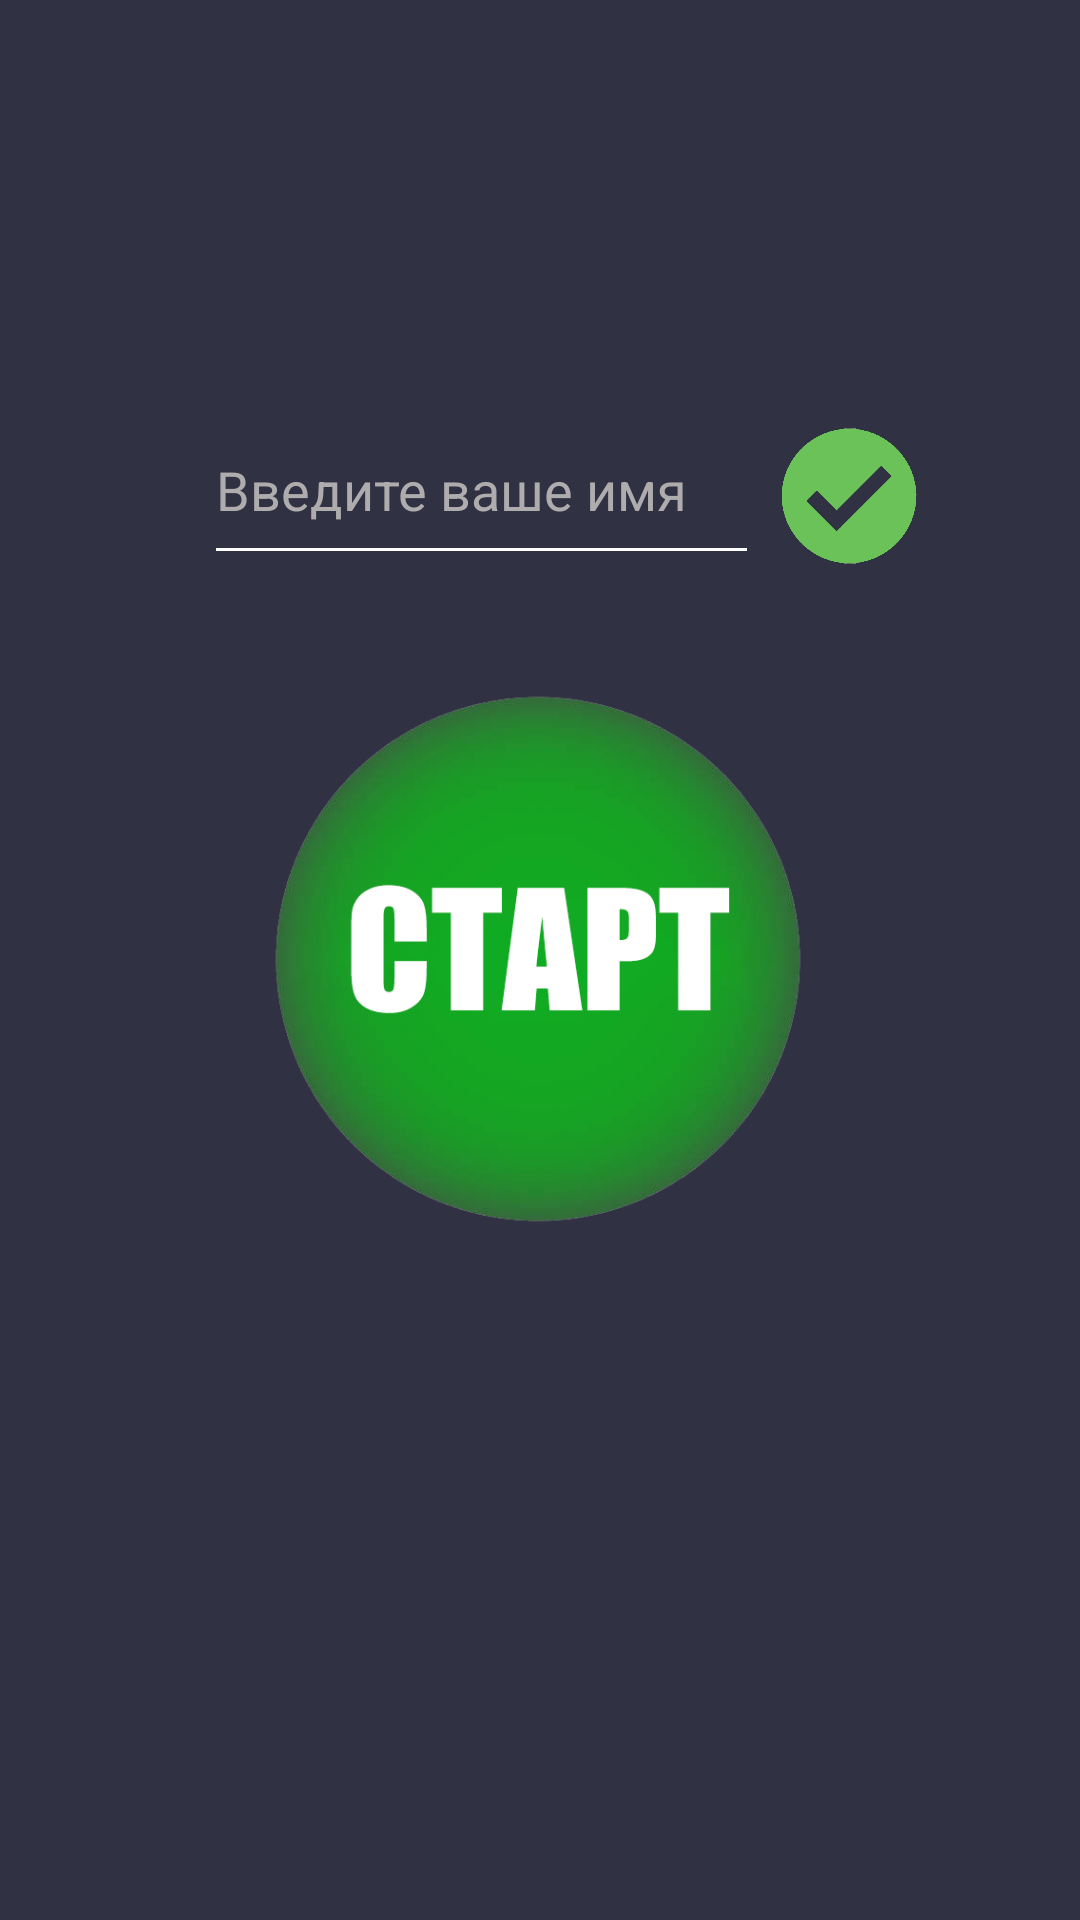

Where to tap for icons on this 1080 x 1920 app screen, as (x,y):
check: (849,496)
